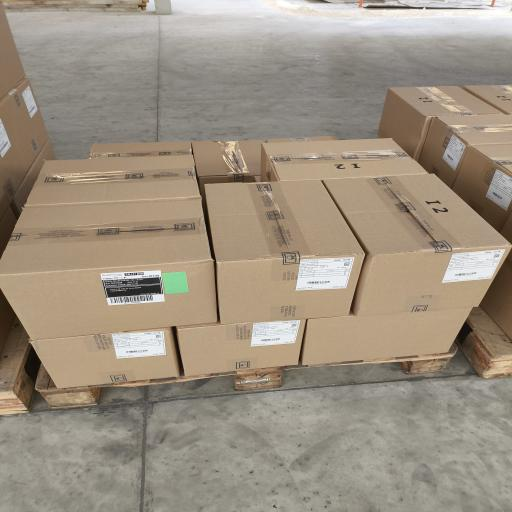pallet: (36, 344, 456, 408), (458, 308, 511, 378), (0, 321, 38, 414), (36, 365, 99, 408)
